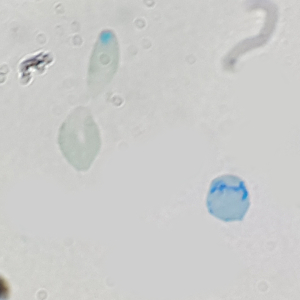aggregate reticulocyte: (204, 173, 252, 225)
erythrocyte: (55, 103, 106, 175), (82, 28, 121, 105)
